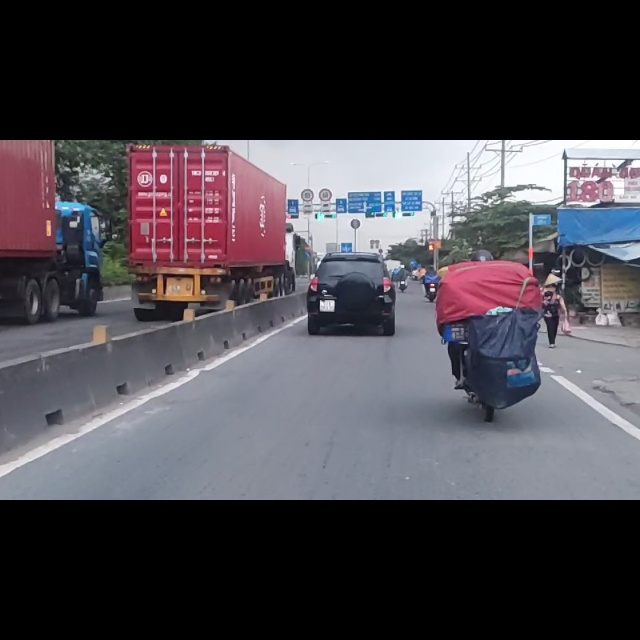bien_hieu_lenh: (318, 85, 333, 111), (301, 88, 314, 110), (304, 187, 311, 198), (304, 199, 311, 210)
